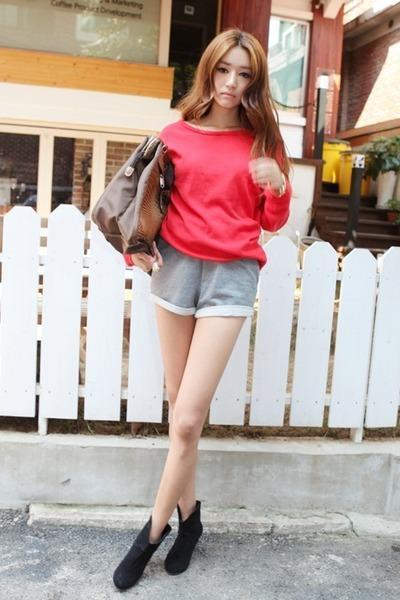bag: (92, 137, 178, 265)
shirt: (159, 112, 291, 263)
shoe: (113, 501, 202, 592)
shorts: (150, 245, 265, 323)
